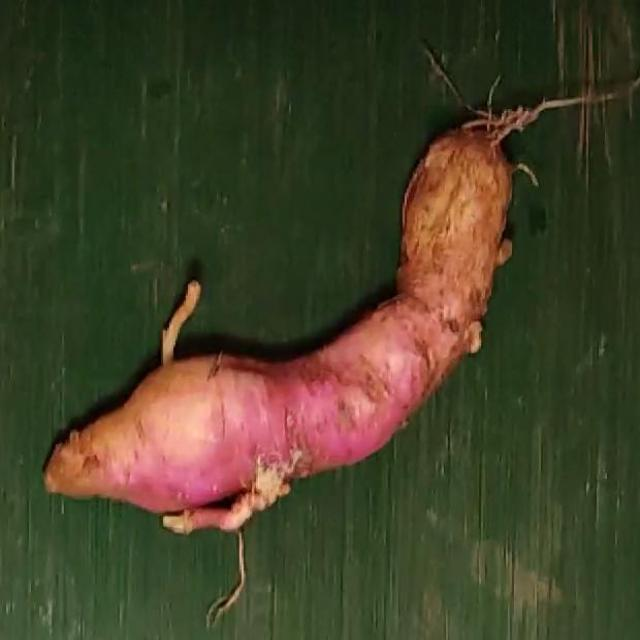Sweet Potato: (47, 126, 513, 536)
